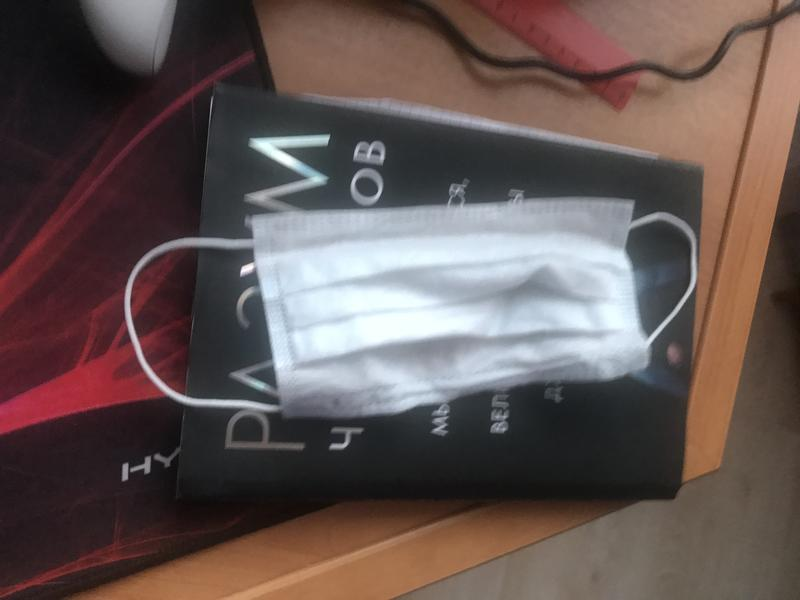medical_mask: (125, 203, 697, 415)
